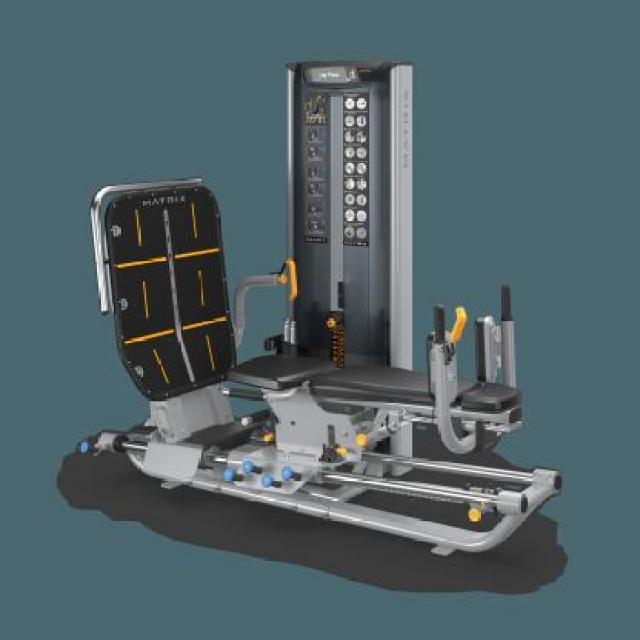leg press: (65, 46, 588, 591)
